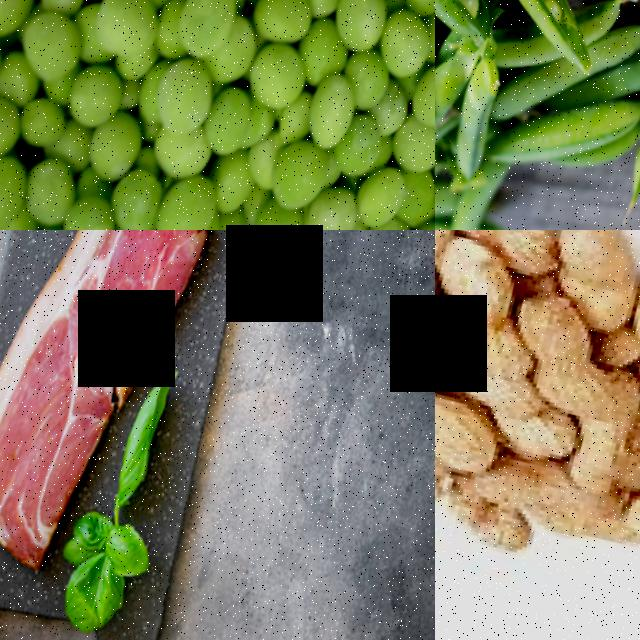peanuts: (496, 293, 616, 425), (435, 233, 539, 385), (550, 375, 640, 508), (535, 230, 640, 327), (435, 378, 502, 493), (435, 230, 547, 269)
peas: (0, 0, 435, 230)
pork belly: (0, 310, 125, 590), (26, 230, 229, 398)
